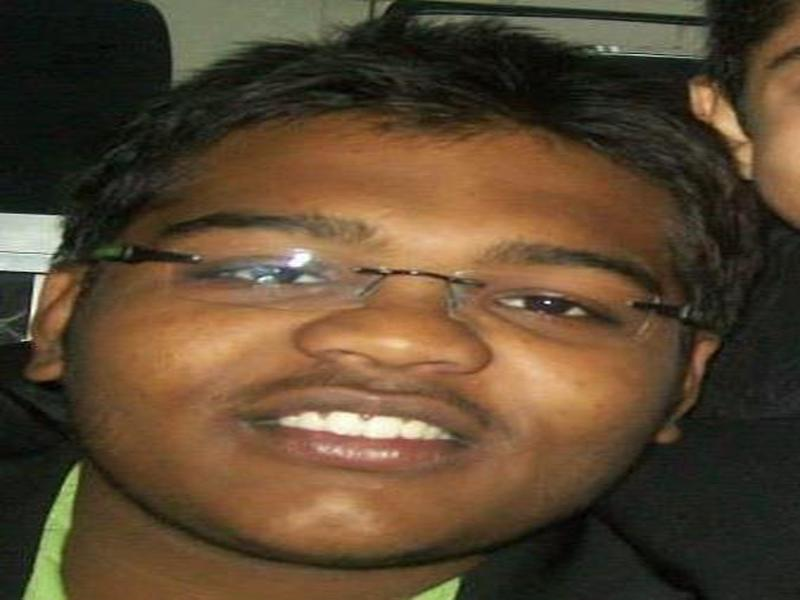without_mask: (104, 118, 646, 561)
